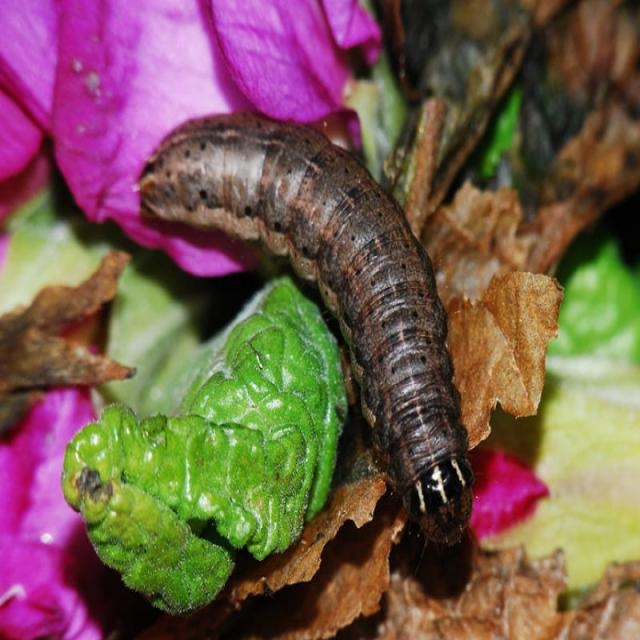cutworm: (140, 97, 480, 552)
